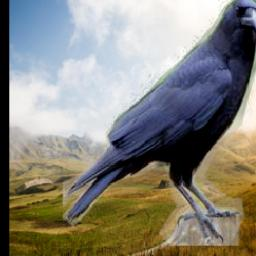Crow: (62, 0, 256, 247)
